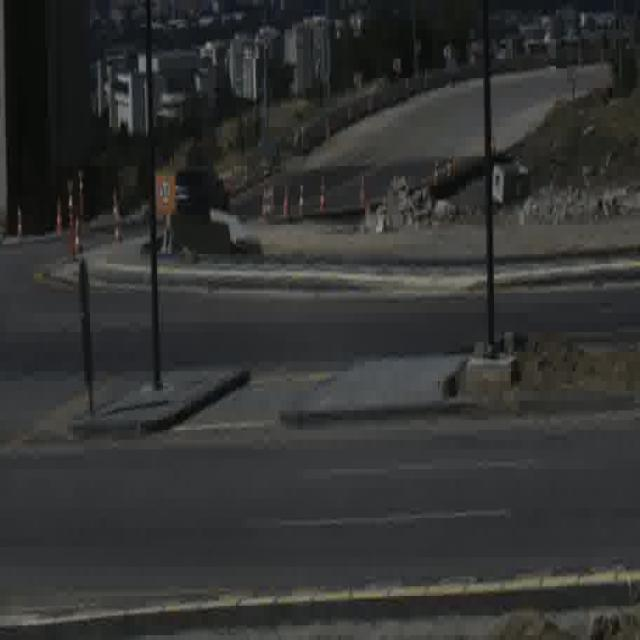Car: (176, 162, 227, 222)
